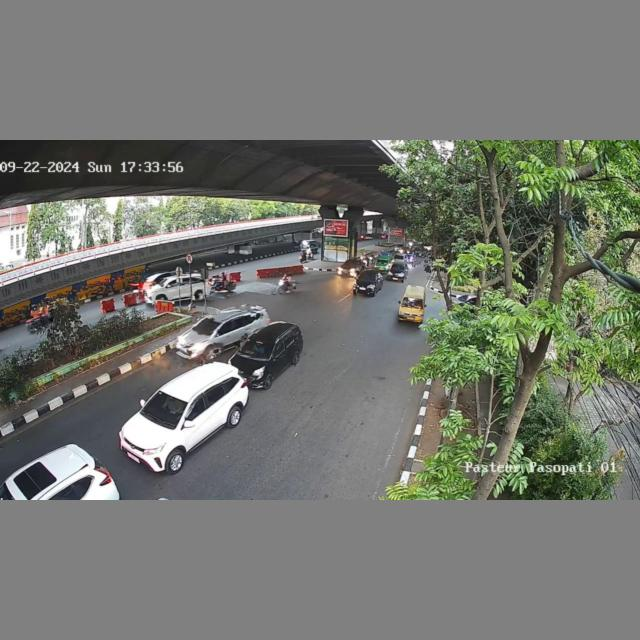windshield: (137, 390, 188, 427), (239, 339, 276, 360), (402, 296, 424, 309)
